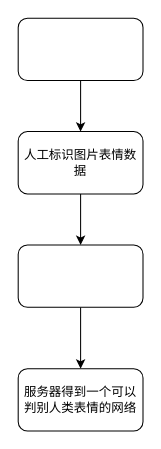
This 161x449 diagram has some shape labels left out. The box of each missing label's shape, as (x1, y1, x2, y2) in pixels:
服务器通过神经网络训练表情网络: (17, 244, 143, 307)
采集各种人类表情图片: (17, 17, 143, 81)
